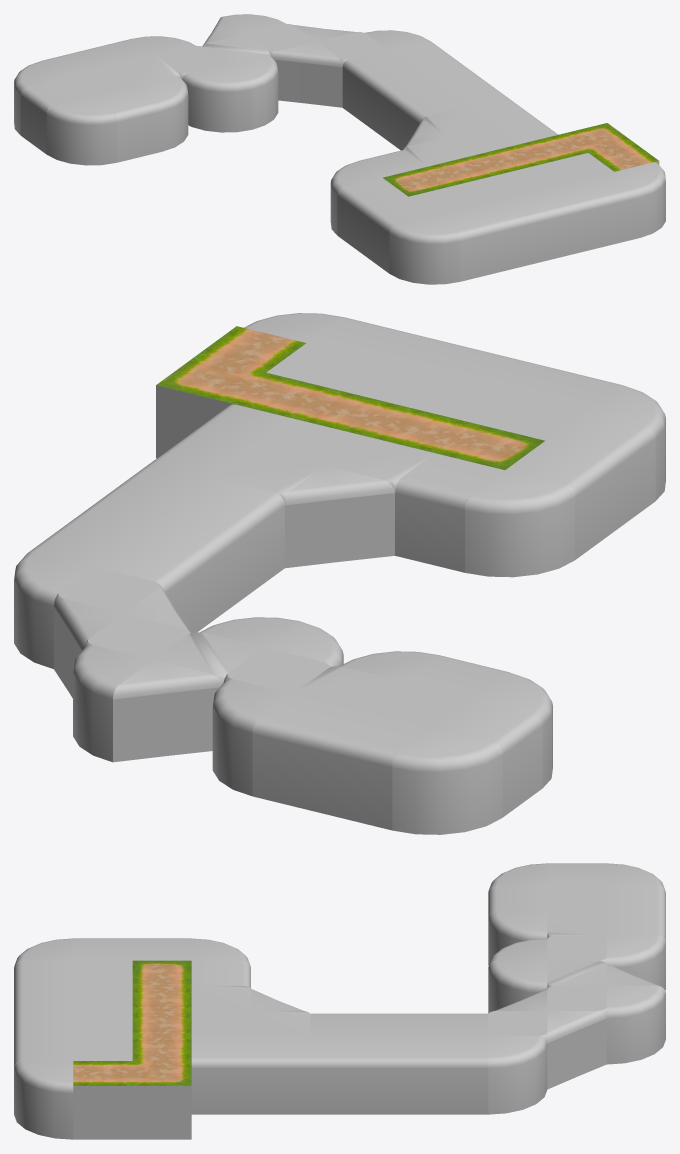
File: Terrrain_Module_02.fbx
3 renders of one model, top to bottom at view 1: azimuth 30°, elevation 25°; view 2: azimuth 150°, elevation 25°; view 3: azimuth 270°, elevation 25°, orthographic. The views are drawn at different scales.
Visible parts, largest first — view 1: TM_Grass_Corner05.042, TM_Grass_Corner05.032, TM_Grass_Corner05.036, Cube.048, TM_Grass_BasicCube01.143, TM_Grass_BasicCube01.126, TM_Grass_BasicCube01.125, TM_Grass_BasicCube01.118, TM_Grass_BasicCube01.123, TM_Grass_BasicCube01.145, TM_Grass_BasicCube01.119, TM_Grass_BasicCube01.140 (+41 smaller); view 2: TM_Grass_Corner05.041, TM_Grass_Corner05.033, Cube.044, Cube.051, TM_Grass_BasicCube01.144, TM_Grass_BasicCube01.142, TM_Grass_BasicCube01.122, TM_Grass_BasicCube01.119, TM_Grass_BasicCube01.145, TM_Grass_BasicCube01.136, TM_Grass_BasicCube01.138, TM_Grass_BasicCube01.121 (+41 smaller); view 3: TM_Grass_BasicCube01.141, TM_Grass_BasicCube01.139, TM_Grass_BasicCube01.137, TM_Grass_BasicCube01.135, TM_Grass_BasicCube01.134, TM_Grass_BasicCube01.116, TM_Grass_BasicCube01.115, TM_Grass_Corner05.037, TM_Grass_Corner05.031, TM_Grass_Corner05.034, Cube.050, TM_Grass_Corner05.038 (+41 smaller).
Boxes of the visible parts, <box> form: TM_Grass_Corner05.042: <box>46,96,117,165</box>; TM_Grass_Corner05.032: <box>389,216,460,284</box>; TM_Grass_Corner05.036: <box>182,63,252,132</box>; Cube.048: <box>272,41,342,107</box>; TM_Grass_BasicCube01.143: <box>92,85,162,162</box>; TM_Grass_BasicCube01.126: <box>434,205,505,281</box>; TM_Grass_BasicCube01.125: <box>479,194,550,270</box>; TM_Grass_BasicCube01.118: <box>569,172,640,248</box>; TM_Grass_BasicCube01.123: <box>524,183,595,259</box>; TM_Grass_BasicCube01.145: <box>20,77,91,154</box>; TM_Grass_BasicCube01.119: <box>363,196,433,273</box>; TM_Grass_BasicCube01.140: <box>342,50,412,126</box>; TM_Grass_Corner05.041: <box>392,728,502,834</box>; TM_Grass_Corner05.033: <box>465,470,574,577</box>; Cube.044: <box>285,465,394,568</box>; Cube.051: <box>113,660,222,762</box>; TM_Grass_BasicCube01.144: <box>322,711,431,830</box>; TM_Grass_BasicCube01.142: <box>252,694,361,813</box>; TM_Grass_BasicCube01.122: <box>395,453,504,572</box>; TM_Grass_BasicCube01.119: <box>546,411,655,530</box>; TM_Grass_BasicCube01.145: <box>433,698,542,817</box>; TM_Grass_BasicCube01.136: <box>175,478,284,597</box>; TM_Grass_BasicCube01.138: <box>135,508,244,626</box>; TM_Grass_BasicCube01.121: <box>505,441,615,559</box>; TM_Grass_BasicCube01.141: <box>429,1036,488,1114</box>; TM_Grass_BasicCube01.139: <box>369,1036,428,1114</box>; TM_Grass_BasicCube01.137: <box>310,1036,369,1114</box>; TM_Grass_BasicCube01.135: <box>251,1036,310,1114</box>; TM_Grass_BasicCube01.134: <box>191,1036,250,1114</box>; TM_Grass_BasicCube01.116: <box>73,1061,132,1139</box>; TM_Grass_BasicCube01.115: <box>132,1061,191,1139</box>; TM_Grass_Corner05.037: <box>606,985,665,1064</box>; TM_Grass_Corner05.031: <box>14,1061,73,1139</box>; TM_Grass_Corner05.034: <box>488,1036,547,1114</box>; Cube.050: <box>547,1011,606,1089</box>; TM_Grass_Corner05.038: <box>488,960,547,1013</box>.
Bounding box in the file's own units: 18 × 2 × 22.
